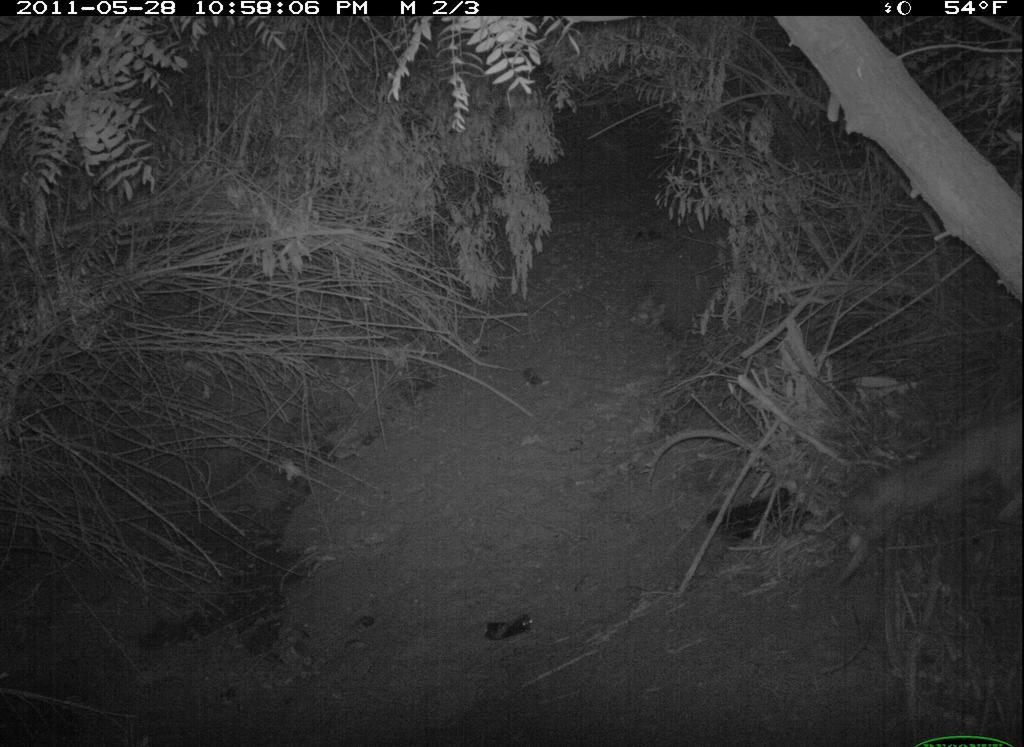bobcat: (815, 392, 1019, 583)
